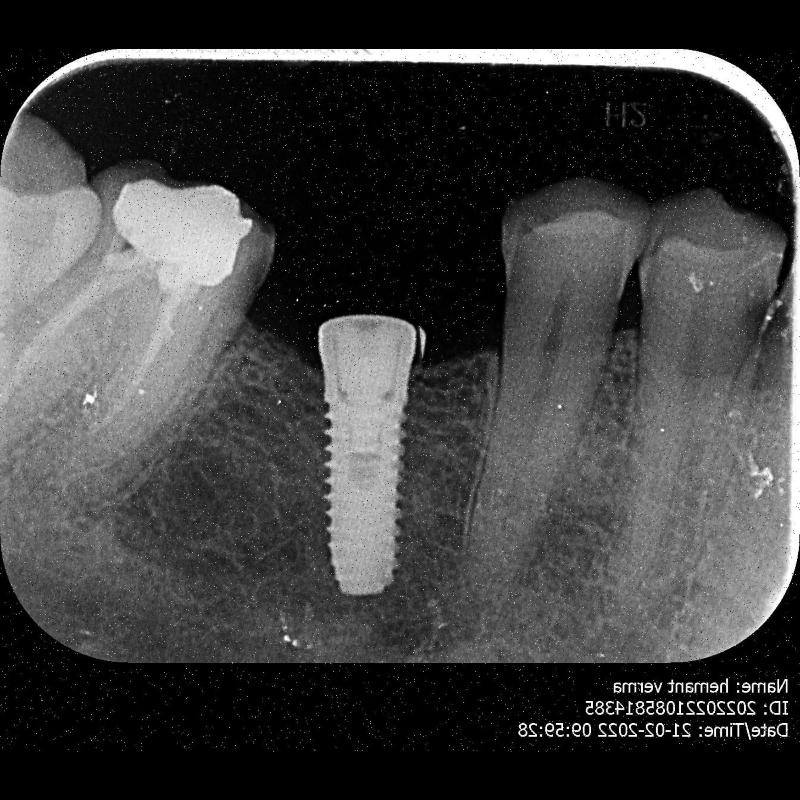osstem: (301, 297, 436, 601)
